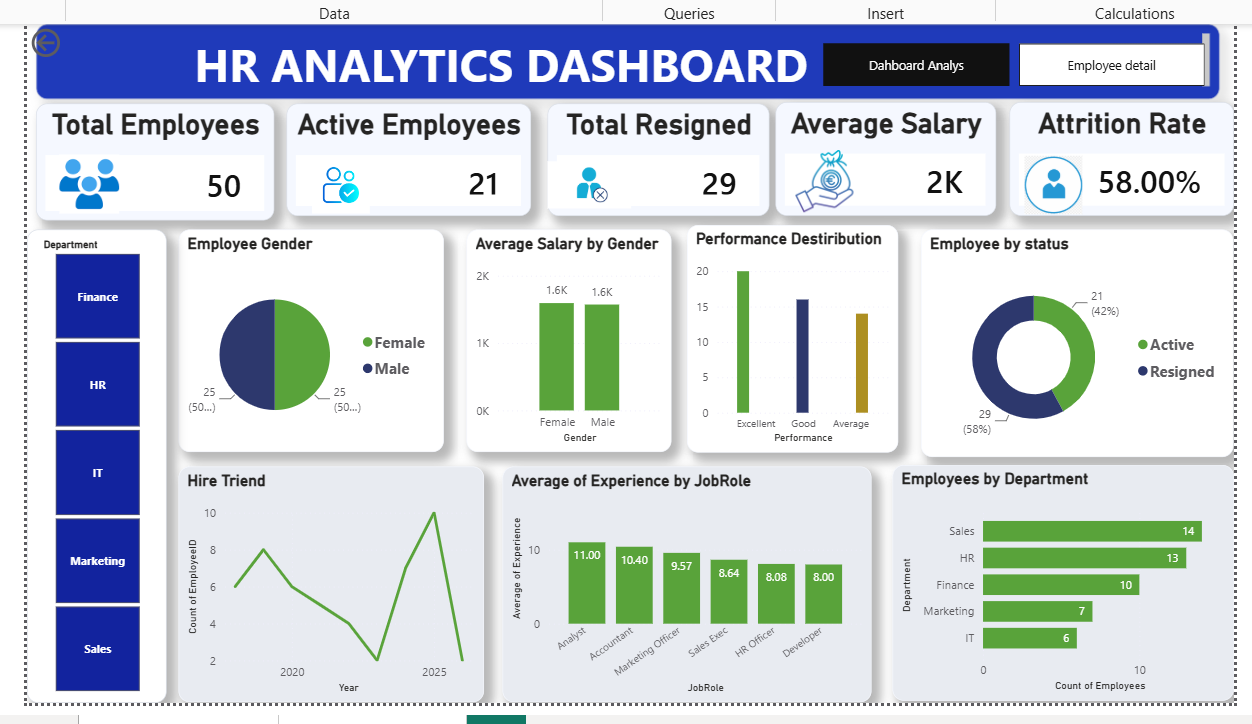

The page's visual inventory and layout, read from the dashboard file:
{"tool":"powerbi","page":{"name":"Dahboard Analys","canvas":[1280,720],"ordinal":0},"visuals":[{"type":"textbox","box":[10,0,1255,80],"z":0},{"type":"cardVisual","title":"Total Employees","fields":{"Data":["CountNonNull(HR_Data.EmployeeID)"]},"box":[9.4,85,253.2,122.8],"z":1000},{"type":"cardVisual","title":"Active Employees","fields":{"Data":["CountNonNull(HR_Data.Status)"]},"box":[275.9,85,258.9,122.8],"z":2000},{"type":"cardVisual","title":"Total Resigned ","fields":{"Data":["CountNonNull(HR_Data.Status)"]},"box":[551.8,85,236.2,119.1],"z":3000},{"type":"cardVisual","title":"Average Salary","fields":{"Data":["Avg(HR_Data.Salary)"]},"box":[793.7,83.2,234.3,119.1],"z":4000},{"type":"cardVisual","title":"Attrition Rate","fields":{"Data":["HR_Data.Attrition Rate"]},"box":[1041.3,83.2,238.1,120.9],"z":5000},{"type":"image","box":[302.5,137.7,61.1,64.8],"z":6000},{"type":"image","box":[1058,137.7,61.1,64.8],"z":7000},{"type":"image","box":[810.7,134.2,68,66],"z":8000},{"type":"image","box":[26.5,137.7,77.8,63],"z":9000},{"type":"image","box":[552.5,134,88.9,74.1],"z":10000},{"type":"pieChart","title":"Employee Gender","fields":{"Category":["HR_Data.Gender"],"Y":["CountNonNull(HR_Data.Gender)"]},"box":[160.3,217.2,281,236],"z":11000},{"type":"columnChart","title":"Average Salary by Gender","fields":{"Y":["Avg(HR_Data.Salary)"],"Category":["HR_Data.Gender"]},"box":[465.5,217.2,217.2,236.2],"z":12000},{"type":"clusteredColumnChart","title":"Performance Destiribution","fields":{"Y":["CountNonNull(HR_Data.EmployeeID)"],"Category":["HR_Data.Performance"],"Series":["HR_Data.Performance"]},"box":[700,213.8,224.1,241.4],"z":13000},{"type":"donutChart","title":"Employee by status","fields":{"Series":["HR_Data.Status"],"Y":["CountNonNull(HR_Data.EmployeeID)"]},"box":[948.3,217.2,331,241.4],"z":14000},{"type":"slicer","fields":{"Values":["HR_Data.Department"]},"box":[0,217.3,148.1,501.9],"z":15000},{"type":"lineChart","title":"Hire Triend","fields":{"Category":["HR_Data.HireDate.Variation.Date Hierarchy.Year"],"Y":["CountNonNull(HR_Data.EmployeeID)"]},"box":[160.3,469,324.1,250],"z":16000},{"type":"clusteredColumnChart","fields":{"Category":["HR_Data.JobRole"],"Y":["Avg(HR_Data.Experience)"]},"box":[503.4,469,391.4,250],"z":17000},{"type":"clusteredBarChart","title":"Employees by Department","fields":{"Y":["CountNonNull(HR_Data.Employees)"],"Category":["HR_Data.Department"]},"box":[918.3,468.3,361.7,250],"z":18000},{"type":"actionButton","box":[0,0,100,40],"z":19000},{"type":"pageNavigator","box":[844.7,20.8,404.4,45.4],"z":20000}]}

Visuals, with their boxes on the page's 1280x720 design canvas (x1, y1, x2, y2). These are canvas units, not pixel positions in the 1252x724 screenshot, which may show the page scaled, cropped or inside an application window:
textbox: x1=10, y1=0, x2=1265, y2=80
"Total Employees" cardVisual: x1=9, y1=85, x2=263, y2=208
"Active Employees" cardVisual: x1=276, y1=85, x2=535, y2=208
"Total Resigned " cardVisual: x1=552, y1=85, x2=788, y2=204
"Average Salary" cardVisual: x1=794, y1=83, x2=1028, y2=202
"Attrition Rate" cardVisual: x1=1041, y1=83, x2=1279, y2=204
image: x1=302, y1=138, x2=364, y2=202
image: x1=1058, y1=138, x2=1119, y2=202
image: x1=811, y1=134, x2=879, y2=200
image: x1=26, y1=138, x2=104, y2=201
image: x1=552, y1=134, x2=641, y2=208
"Employee Gender" pieChart: x1=160, y1=217, x2=441, y2=453
"Average Salary by Gender" columnChart: x1=466, y1=217, x2=683, y2=453
"Performance Destiribution" clusteredColumnChart: x1=700, y1=214, x2=924, y2=455
"Employee by status" donutChart: x1=948, y1=217, x2=1279, y2=459
slicer - HR_Data.Department: x1=0, y1=217, x2=148, y2=719
"Hire Triend" lineChart: x1=160, y1=469, x2=484, y2=719
clusteredColumnChart - HR_Data.JobRole x Avg(HR_Data.Experience): x1=503, y1=469, x2=895, y2=719
"Employees by Department" clusteredBarChart: x1=918, y1=468, x2=1280, y2=718
actionButton: x1=0, y1=0, x2=100, y2=40
pageNavigator: x1=845, y1=21, x2=1249, y2=66
